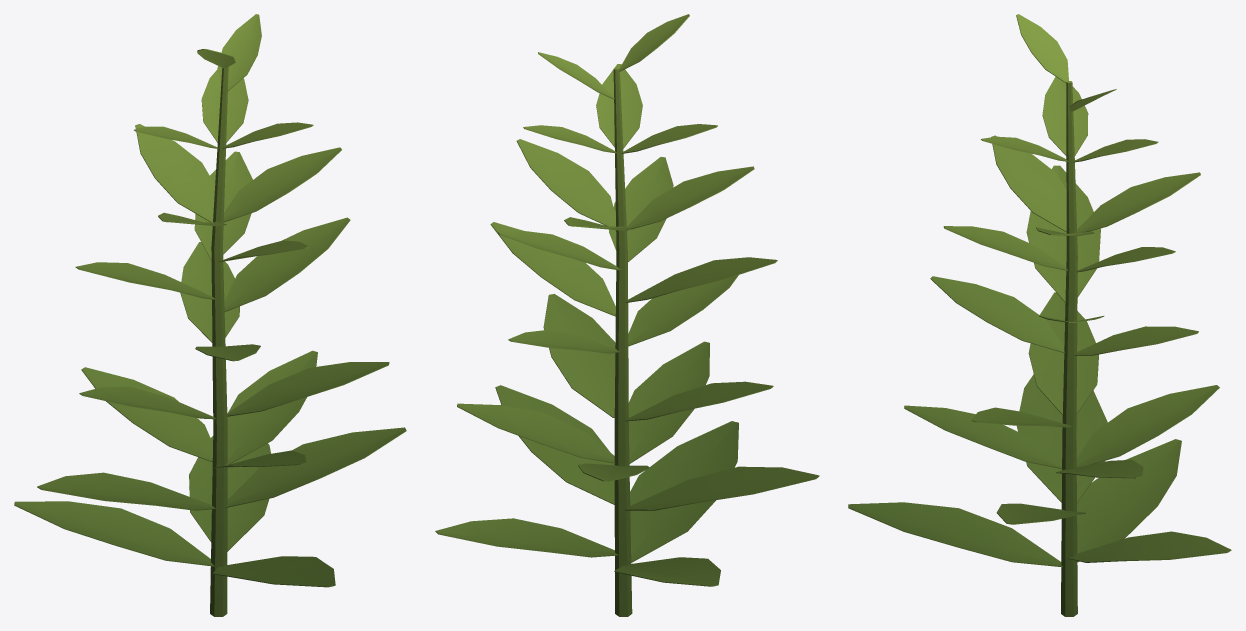
File: Plant_03.fbx
The picture shows the model from 3 angles, left to right: view 1: azimuth 30°, elevation 25°; view 2: azimuth 150°, elevation 25°; view 3: azimuth 270°, elevation 25°; orthographic projection. The views are drawn at different scales.
Parts seen in each view (by area): view 1: Plant_03_LOD0; view 2: Plant_03_LOD0; view 3: Plant_03_LOD0.
Boxes of the visible parts, box(x1,y1,x2,y2) form: Plant_03_LOD0: box(14, 14, 406, 616); Plant_03_LOD0: box(435, 14, 819, 616); Plant_03_LOD0: box(848, 14, 1231, 616).
Size of what is drawn, in the model's own units: 0.4477 by 0.7347 by 0.4397.
